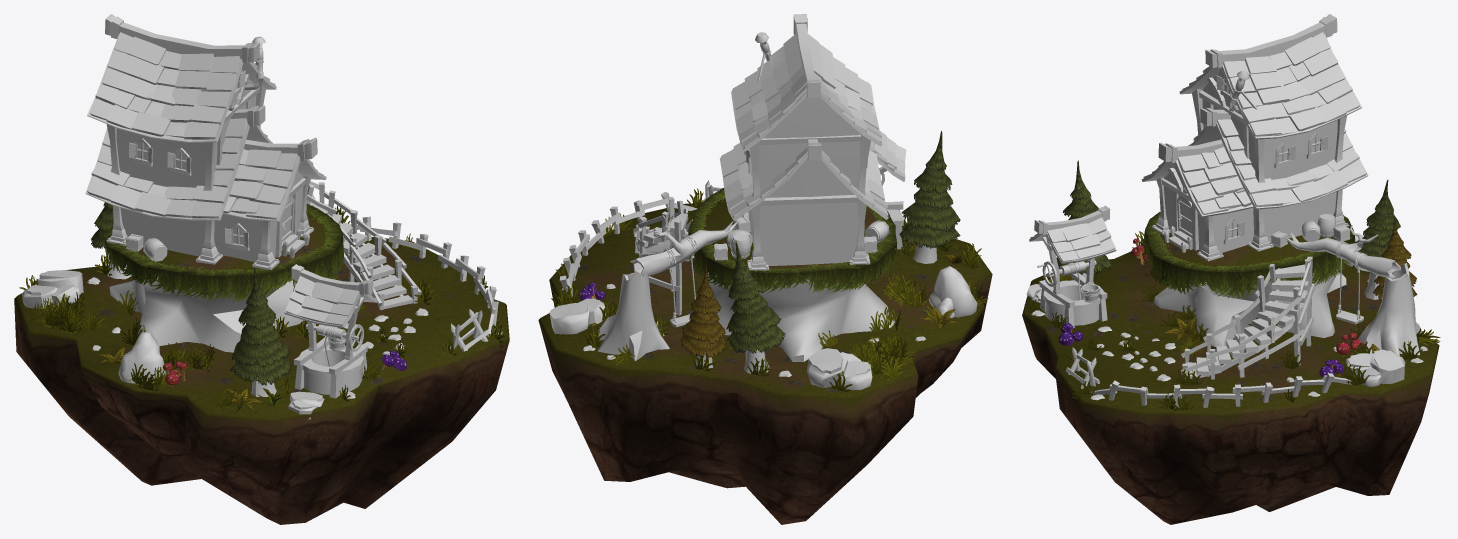
File: Tree-stump_house_scene.FBX
The picture shows the model from 3 angles, left to right: view 1: azimuth 30°, elevation 25°; view 2: azimuth 150°, elevation 25°; view 3: azimuth 270°, elevation 25°; orthographic projection. The views are drawn at different scales.
Parts seen in each view (by area): view 1: Tree-stump_house_scene; view 2: Tree-stump_house_scene; view 3: Tree-stump_house_scene.
Part boxes in pixels (x1=…): Tree-stump_house_scene: x1=14, y1=14, x2=509, y2=524; Tree-stump_house_scene: x1=538, y1=14, x2=992, y2=524; Tree-stump_house_scene: x1=1022, y1=14, x2=1440, y2=524.
Bounding box in the file's own units: 269 × 270 × 305.
